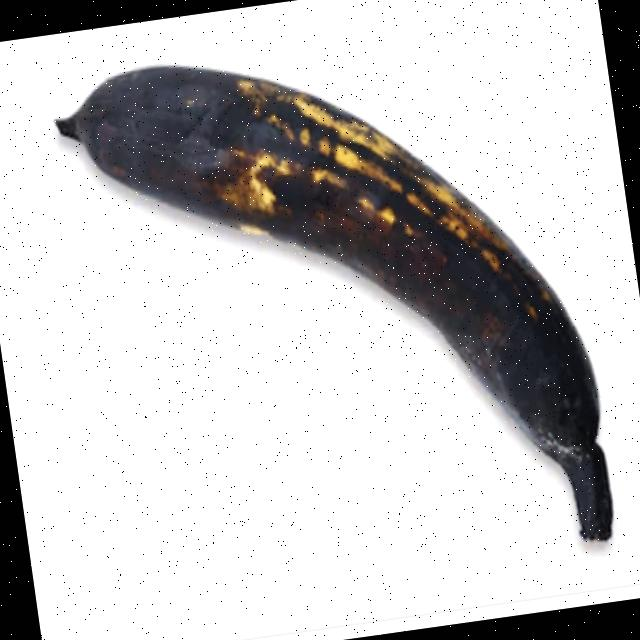rotten banana: (18, 0, 633, 578)
